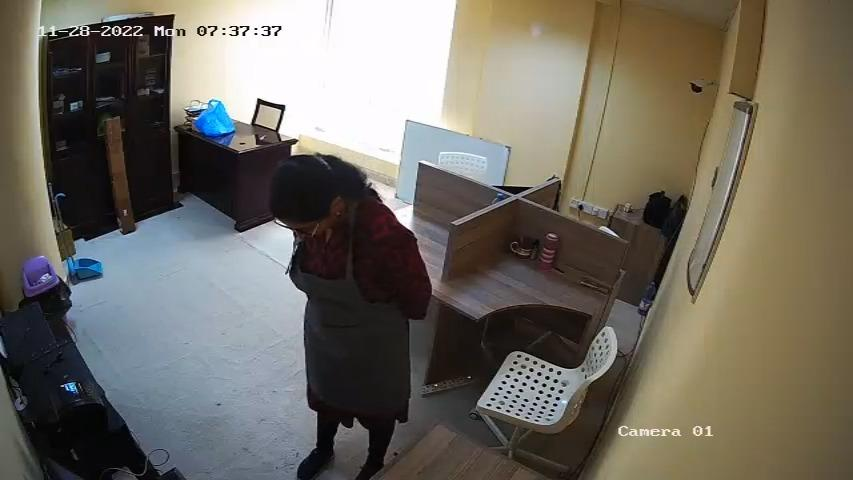apron: (284, 240, 411, 402)
